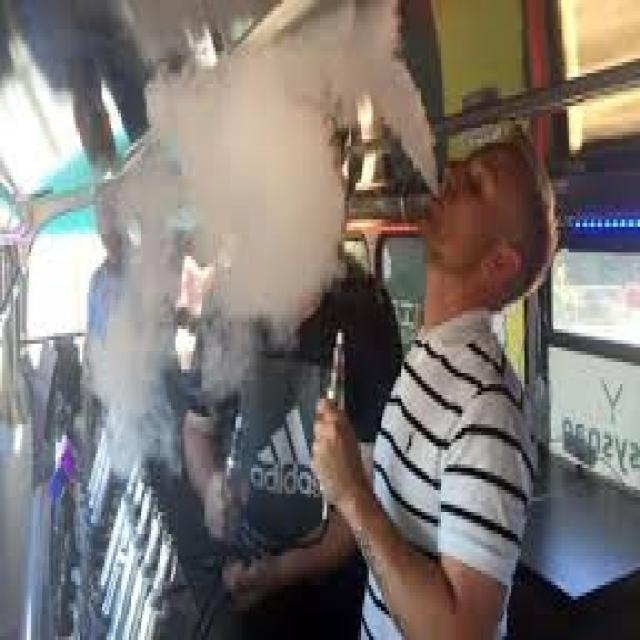Smoke: (93, 0, 444, 472)
